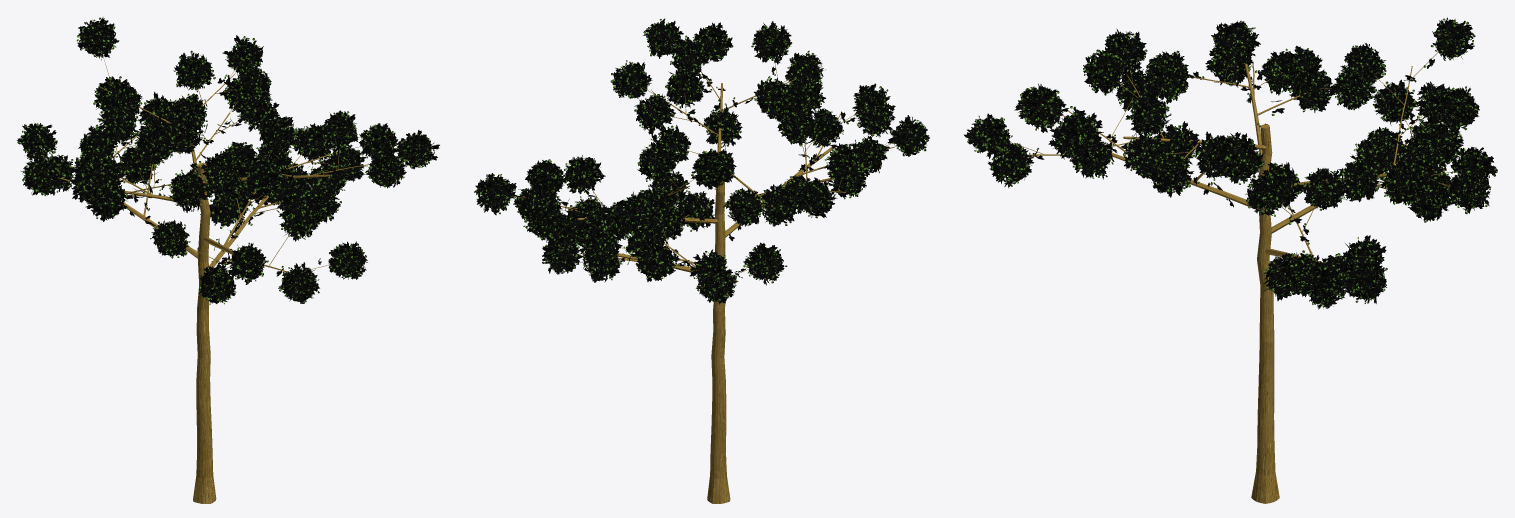
File: pine_open_v03.fbx
3 renders of one model, left to right at view 1: azimuth 30°, elevation 25°; view 2: azimuth 150°, elevation 25°; view 3: azimuth 270°, elevation 25°, orthographic. The views are drawn at different scales.
Parts seen in each view (by area): view 1: pine_open_v03; view 2: pine_open_v03; view 3: pine_open_v03.
Boxes of the visible parts, x1=… form: pine_open_v03: x1=16, y1=17, x2=439, y2=503; pine_open_v03: x1=474, y1=18, x2=929, y2=503; pine_open_v03: x1=964, y1=17, x2=1497, y2=503.
Size of the model in its own units: 2100 by 2907 by 2809.
Materials: 2 (2 with a texture image).
